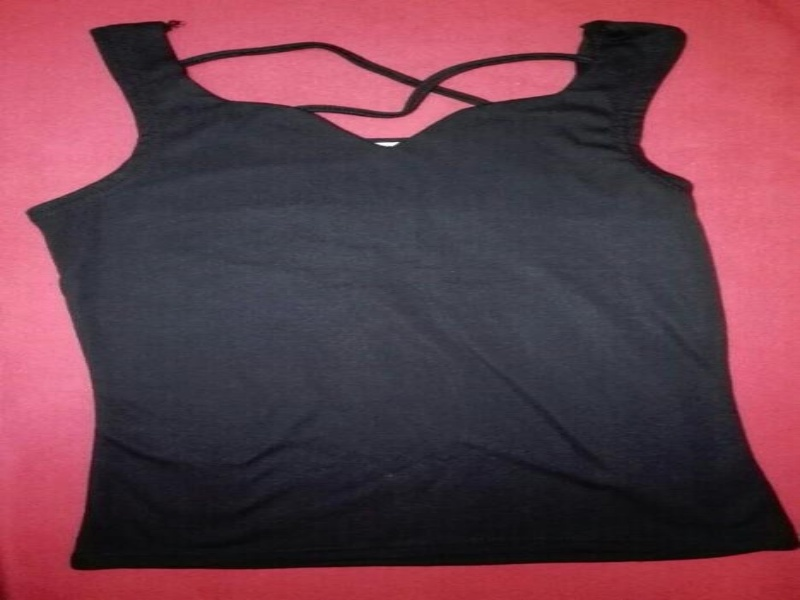vest: (19, 14, 795, 571)
